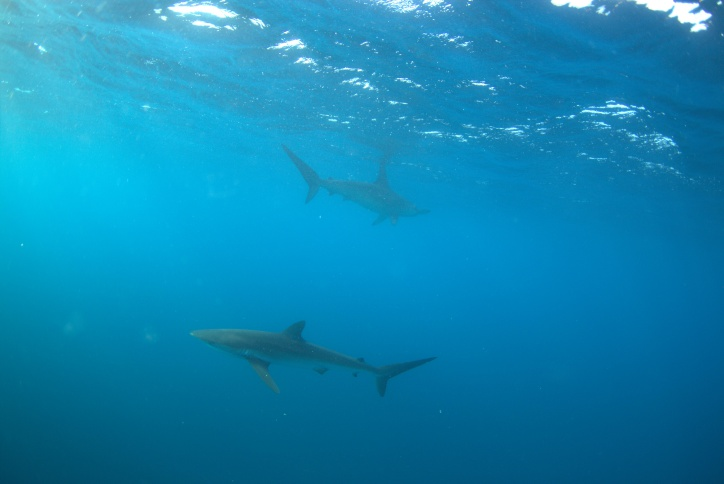Hammer: (169, 293, 460, 434), (204, 142, 402, 283), (277, 131, 450, 231)
